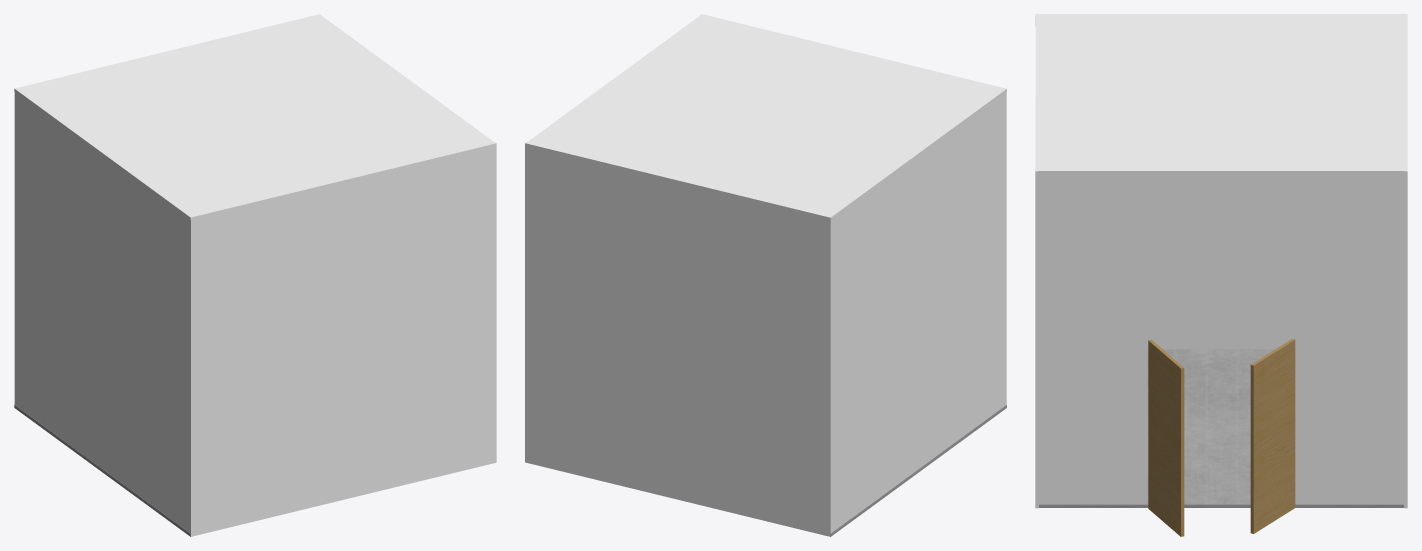
The model's file is Sala Branca-cirurgia.obj.
The picture shows the model from 3 angles, left to right: view 1: azimuth 30°, elevation 25°; view 2: azimuth 150°, elevation 25°; view 3: azimuth 270°, elevation 25°; orthographic projection. The views are drawn at different scales.
Visible parts, largest first — view 1: 007_Box_1, 006_Box_2, 008_Box_9, 009_Box, 005_Box_3; view 2: 005_Box_3, 006_Box_2, 008_Box_9, 009_Box; view 3: 008_Box_9, 003_Box_5, 004_Box_4, 000_Box_8, 009_Box, 002_Box_6, 001_Box_7, 006_Box_2, 007_Box_1, 005_Box_3.
Boxes of the visible parts, x1,y1,x2,y2 form: 007_Box_1: [193, 142, 496, 535]; 006_Box_2: [14, 89, 193, 536]; 008_Box_9: [14, 15, 494, 220]; 009_Box: [14, 405, 190, 536]; 005_Box_3: [15, 14, 321, 89]; 005_Box_3: [525, 142, 831, 536]; 006_Box_2: [828, 88, 1006, 533]; 008_Box_9: [526, 15, 1006, 220]; 009_Box: [830, 405, 1006, 536]; 008_Box_9: [1036, 14, 1407, 174]; 003_Box_5: [1293, 169, 1404, 504]; 004_Box_4: [1036, 169, 1147, 504]; 000_Box_8: [1144, 167, 1293, 338]; 009_Box: [1039, 349, 1403, 507]; 002_Box_6: [1250, 339, 1295, 533]; 001_Box_7: [1148, 339, 1184, 536]; 006_Box_2: [1035, 14, 1406, 349]; 007_Box_1: [1035, 14, 1039, 508]; 005_Box_3: [1404, 14, 1407, 508].
Size of the model in its own units: 118 by 100 by 100.
Materials: 10 (3 with a texture image).
